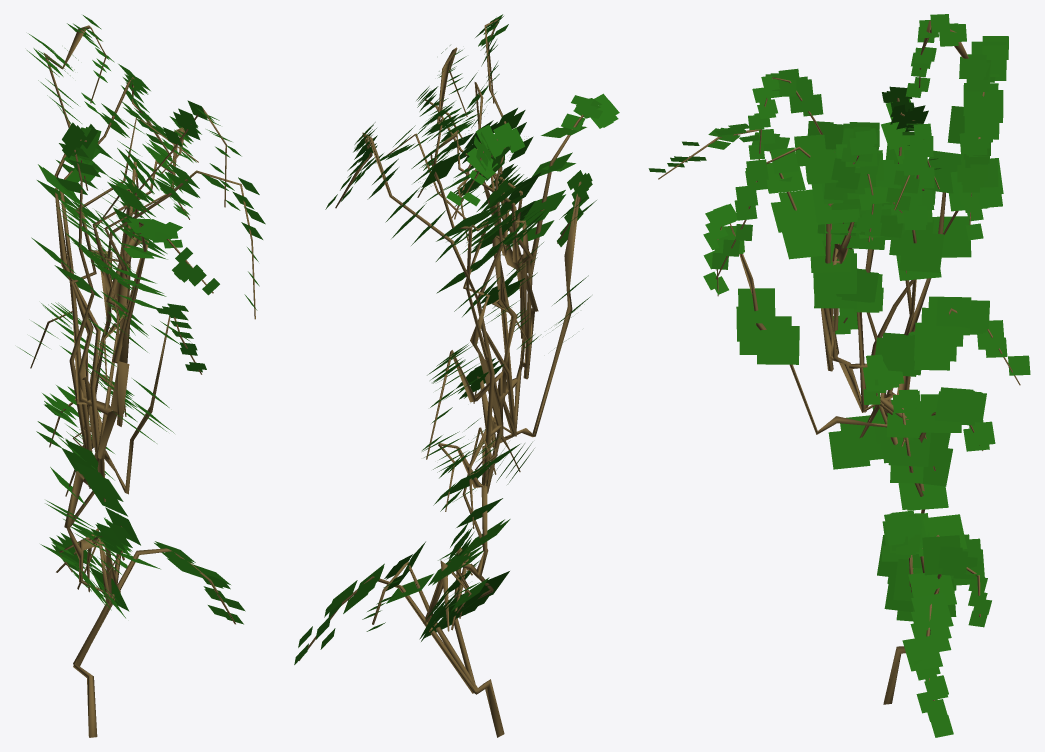
File: ivy3.fbx
3 views of the same model, side by side, from view 1: azimuth 30°, elevation 25°; view 2: azimuth 150°, elevation 25°; view 3: azimuth 270°, elevation 25° (orthographic).
Parts seen in each view (by area): view 1: IVY_Curve.001; view 2: IVY_Curve.001; view 3: IVY_Curve.001.
Boxes of the visible parts, <box> form: IVY_Curve.001: <box>18,15,265,737</box>; IVY_Curve.001: <box>294,14,619,737</box>; IVY_Curve.001: <box>648,14,1030,737</box>.
Size of the model in its own units: 115 by 378 by 187.
